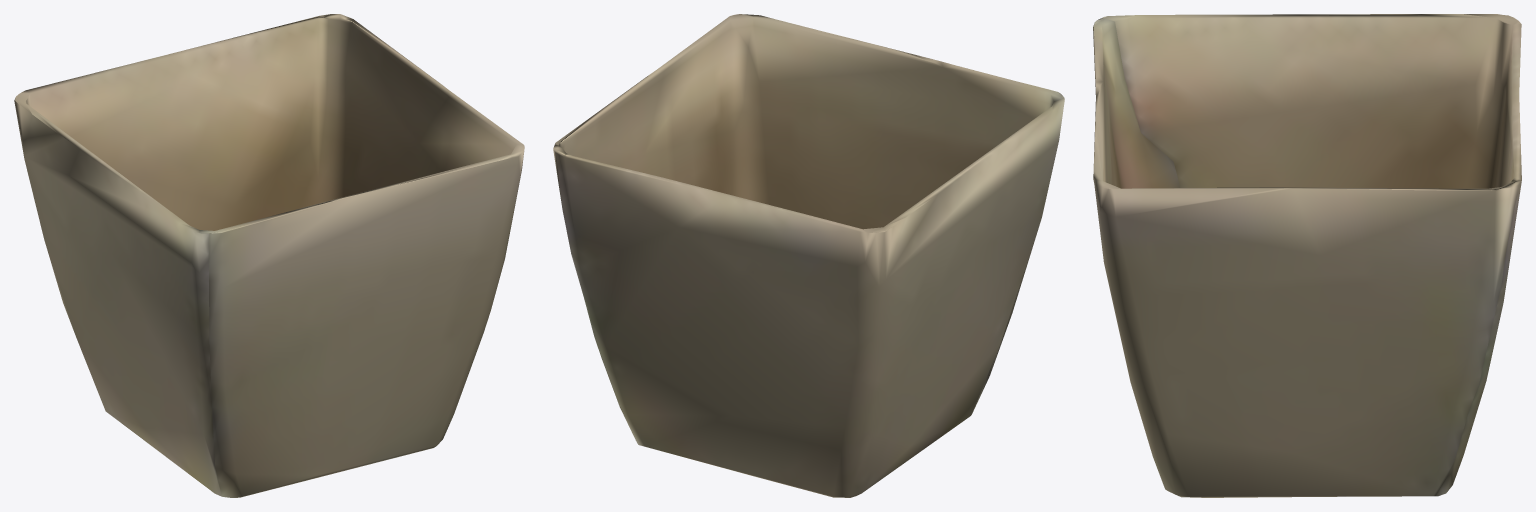
The model's file is Ecoforms_Plant_Container_Quadra_Sand_QP6-medium.glb.
3 renders of one model, left to right at view 1: azimuth 30°, elevation 25°; view 2: azimuth 150°, elevation 25°; view 3: azimuth 270°, elevation 25°, orthographic. The views are drawn at different scales.
Visible parts, largest first — view 1: Ecoforms_Plant_Container_Quadra_Sand_QP6; view 2: Ecoforms_Plant_Container_Quadra_Sand_QP6; view 3: Ecoforms_Plant_Container_Quadra_Sand_QP6.
Boxes of the visible parts, x1,y1,x2,y2 form: Ecoforms_Plant_Container_Quadra_Sand_QP6: (14, 14, 524, 497); Ecoforms_Plant_Container_Quadra_Sand_QP6: (553, 14, 1064, 497); Ecoforms_Plant_Container_Quadra_Sand_QP6: (1093, 14, 1521, 497).
Bounding box in the file's own units: 0.1899 × 0.1683 × 0.1901.
Materials: 1 (1 with a texture image).
